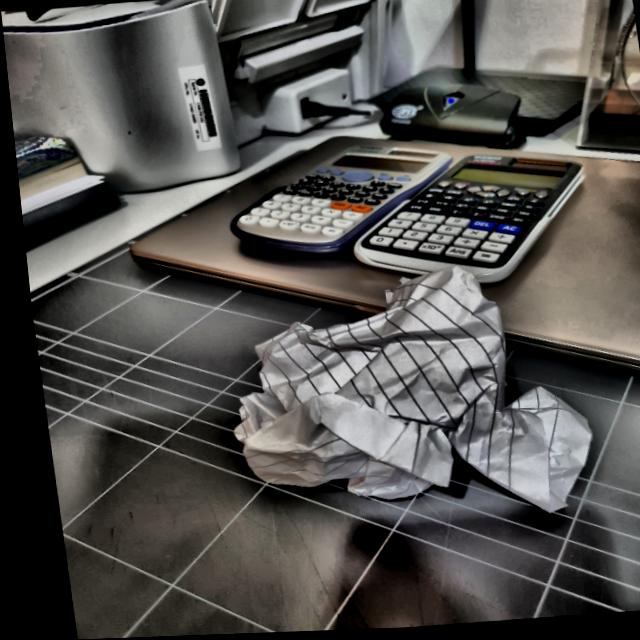Paper: (220, 270, 572, 524)
